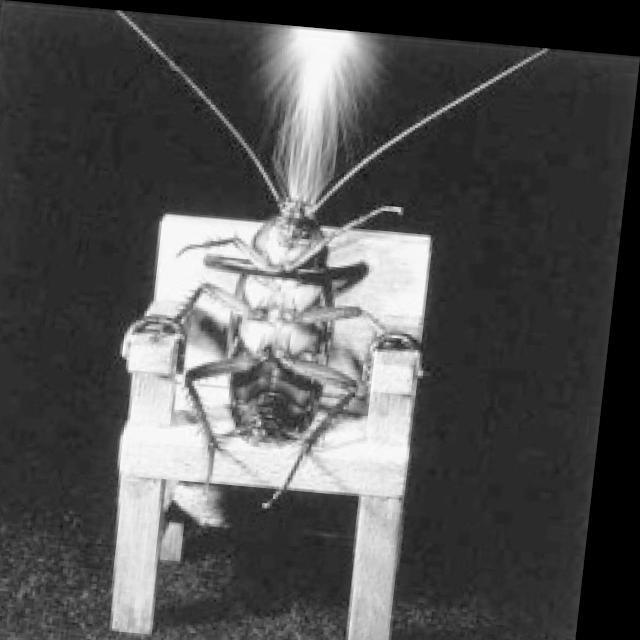cockroach: (120, 129, 429, 516)
